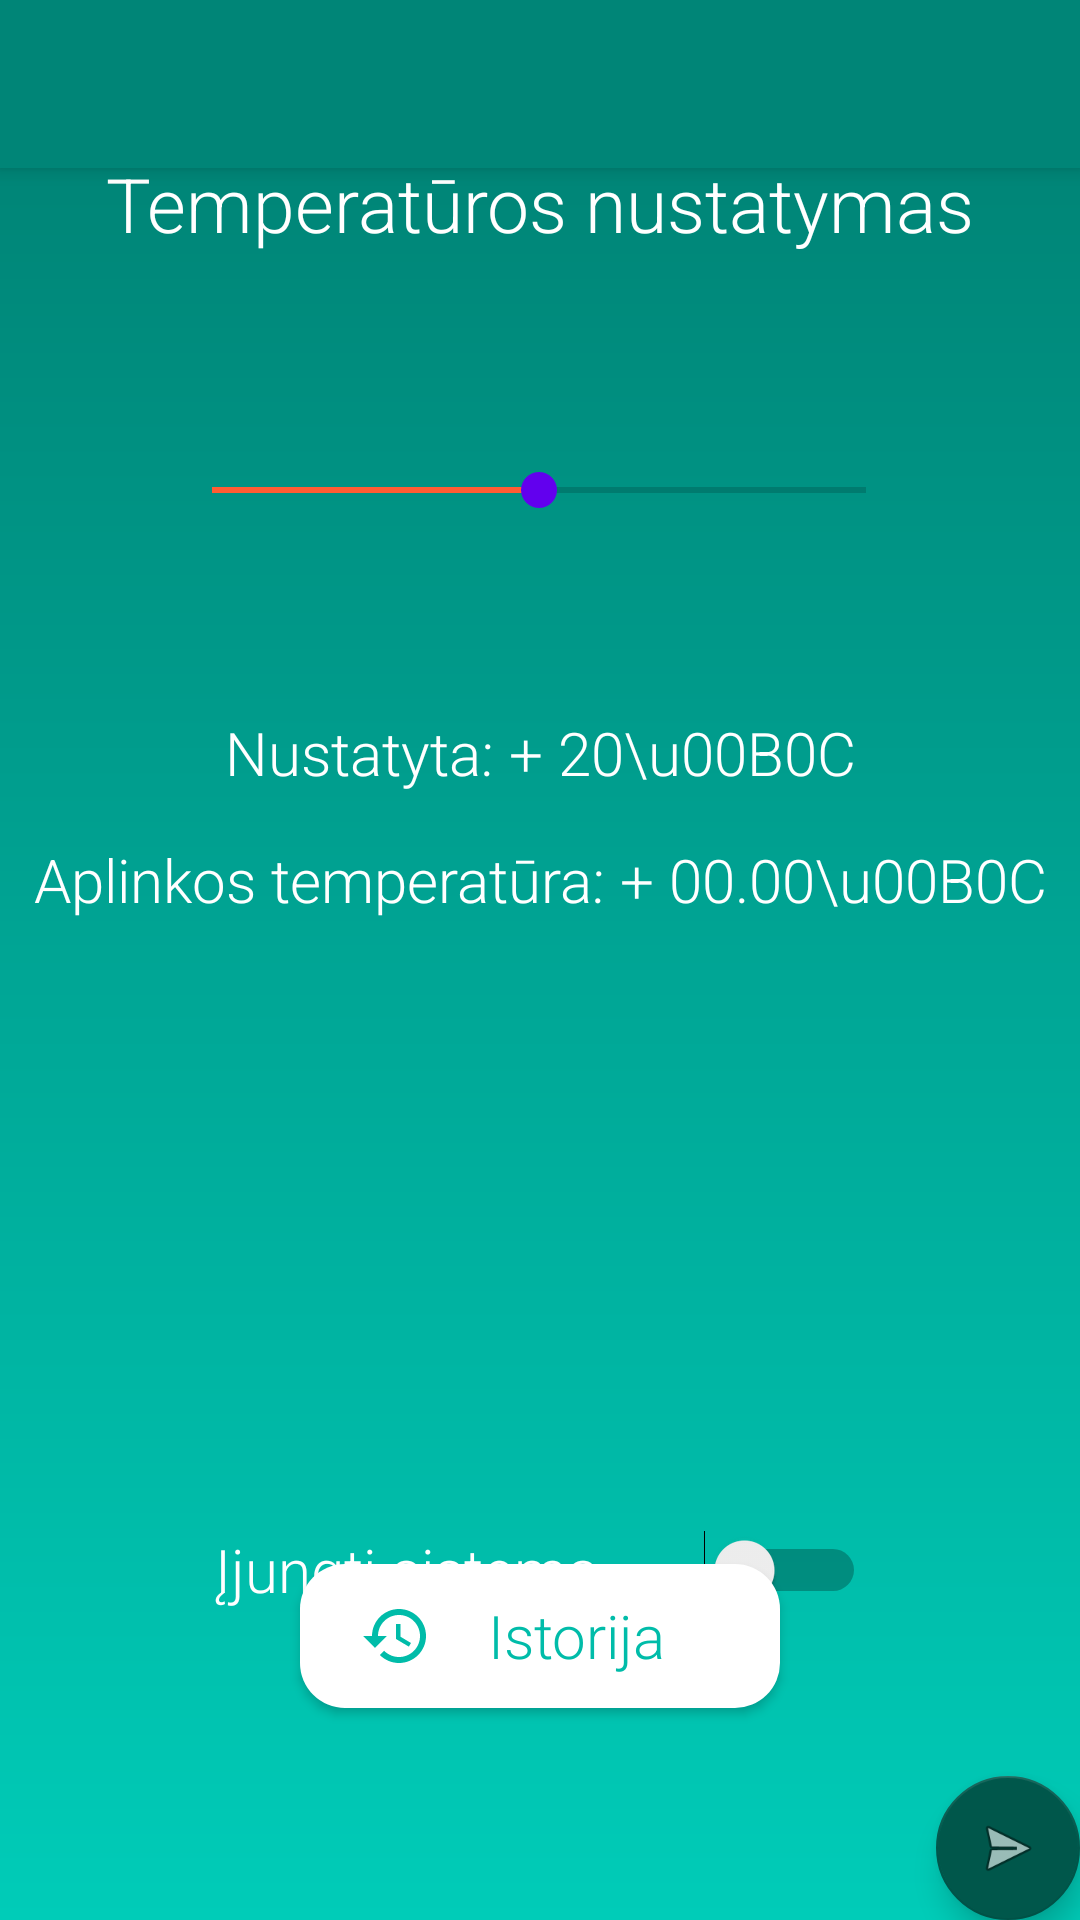

Icons on this 1080×1920 Android screen, each with its box as [x1, y1, x2, y2]:
send: [936, 1776, 1080, 1920]
